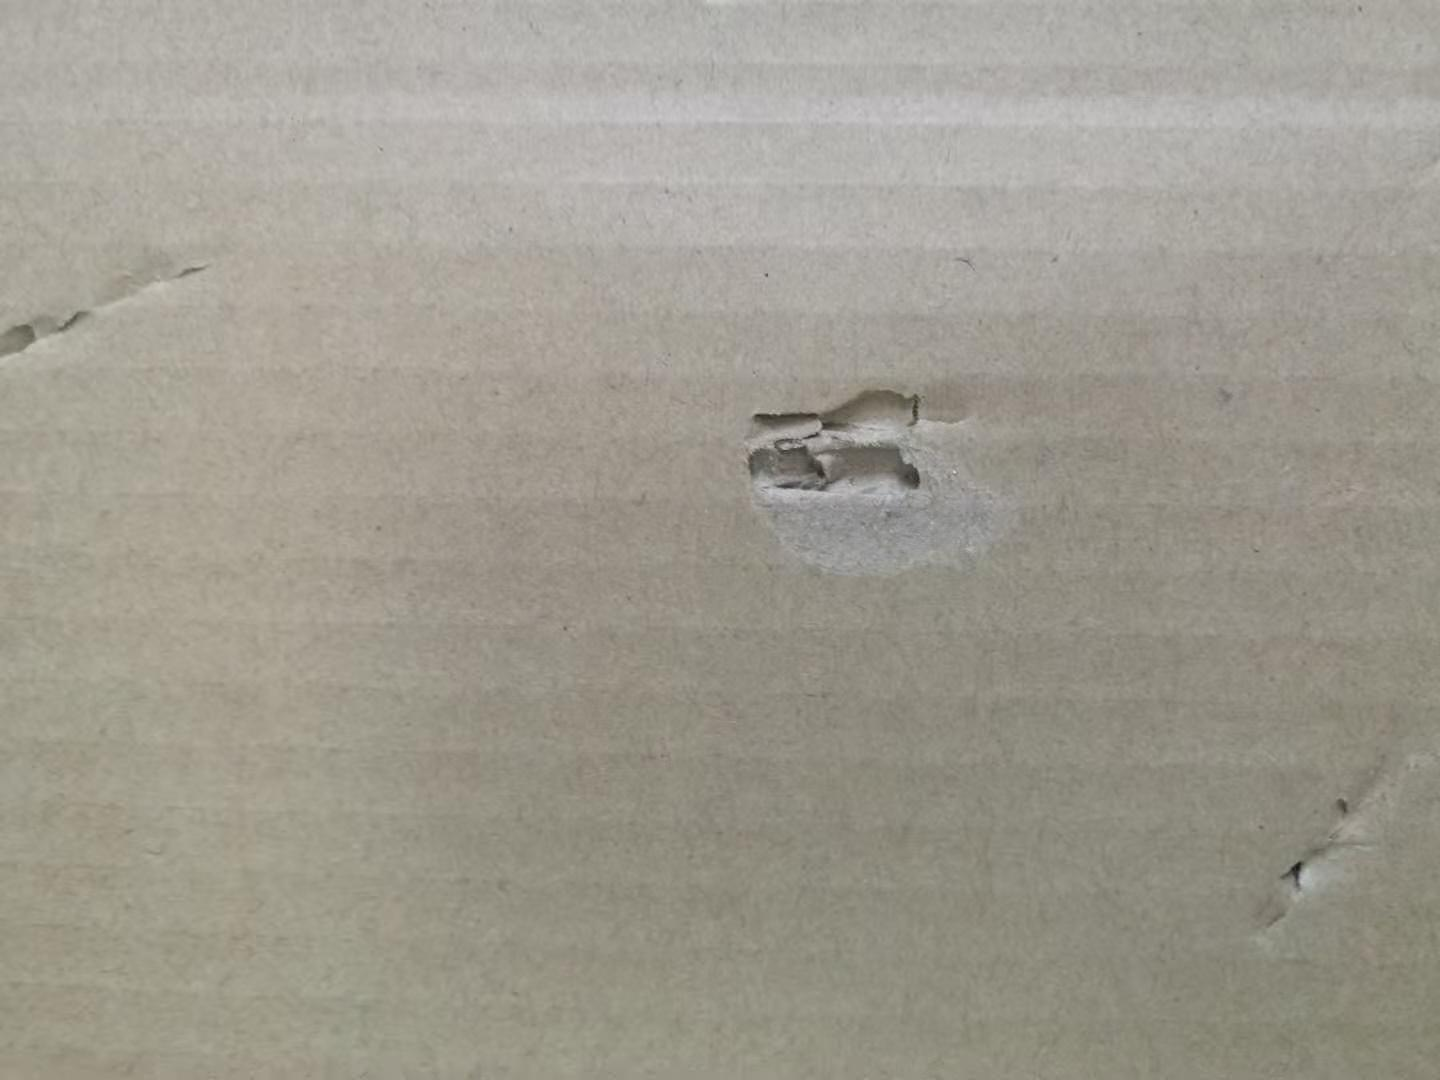defect: (708, 346, 1064, 600), (1225, 701, 1440, 957), (1, 226, 257, 386)
